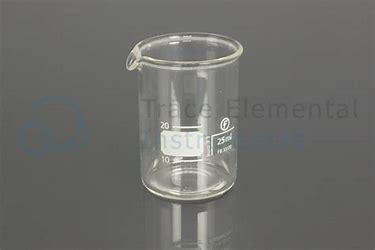Beaker: (123, 21, 247, 207)
